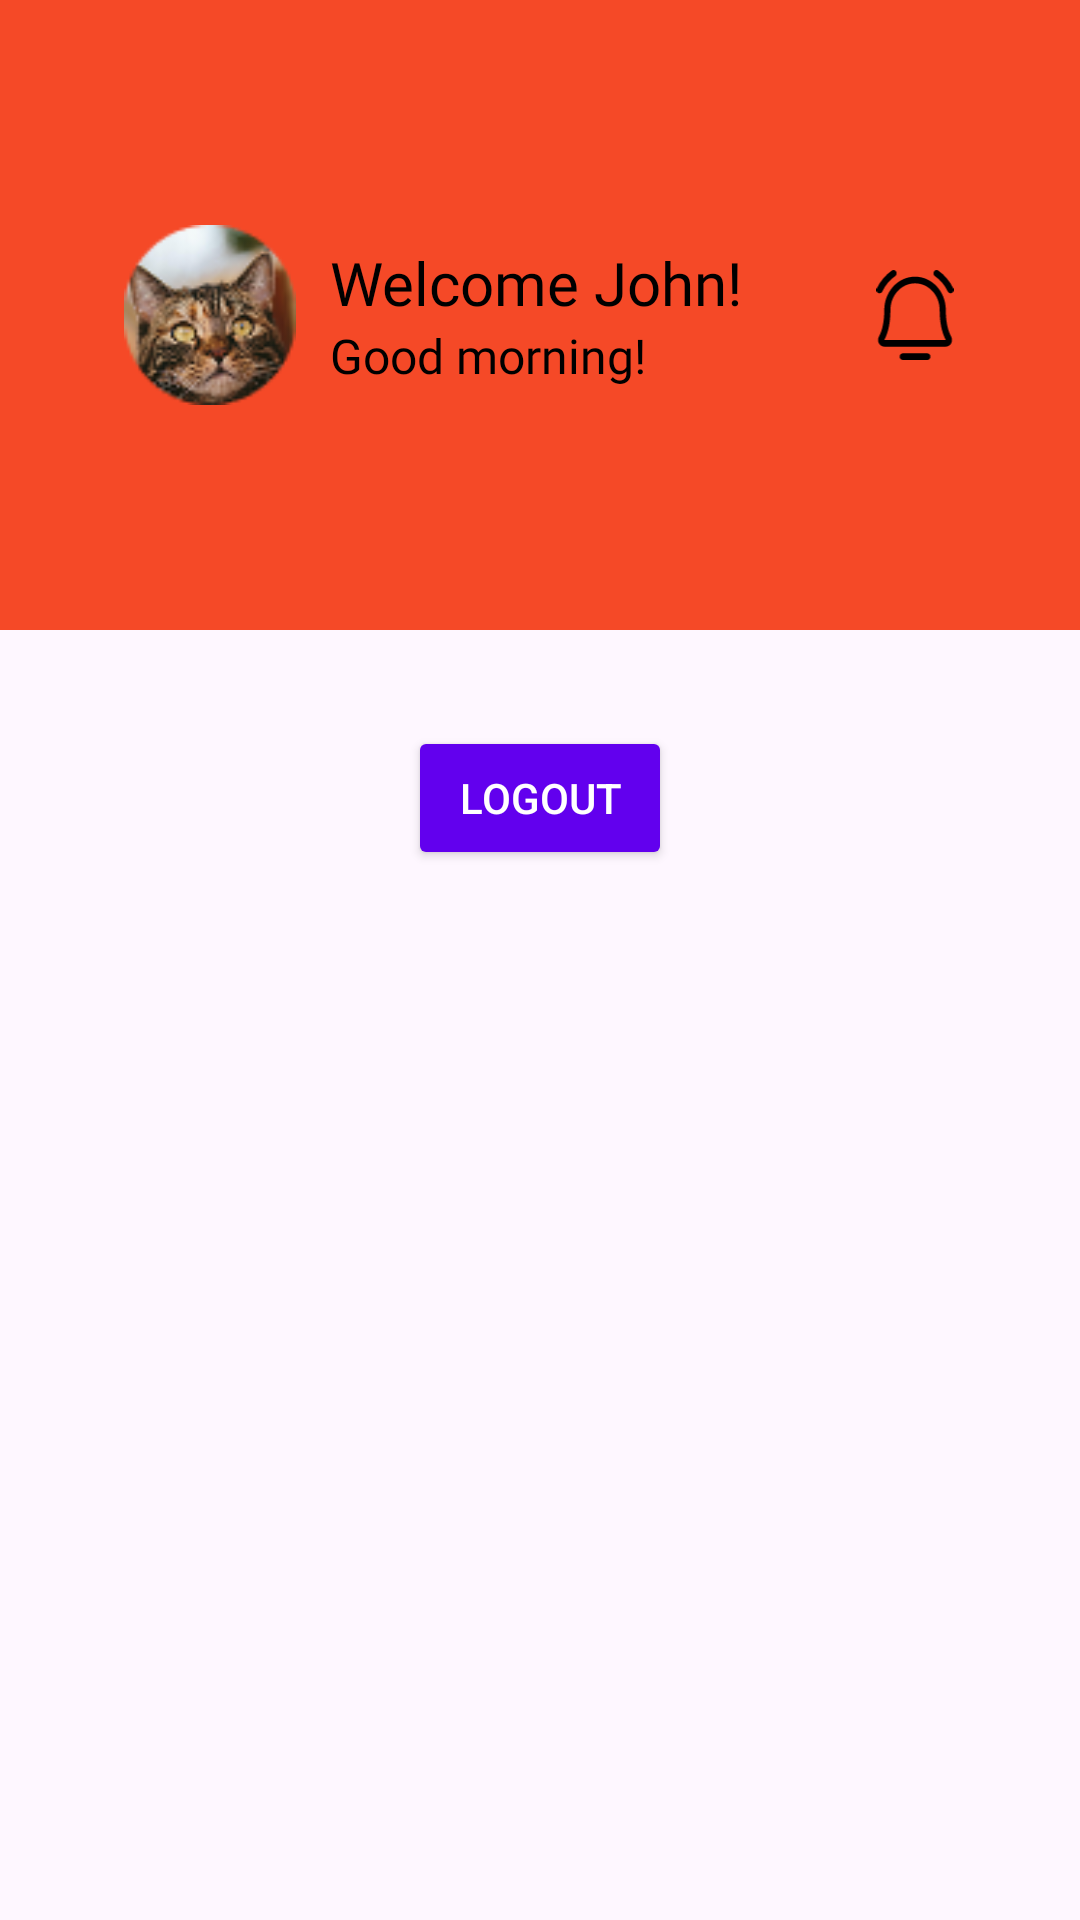

Icon bounding boxes for this 1080×1920 phone screenshot, format (x1, y1, x2, y2):
notification: (876, 270, 954, 360)
profile: (124, 225, 296, 405)
